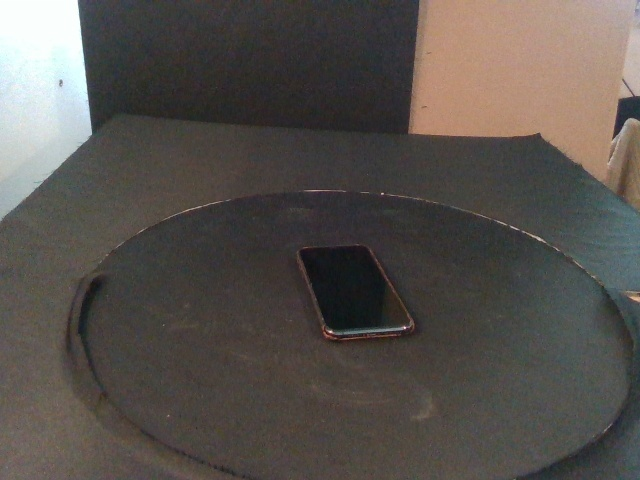phone: (296, 243, 416, 344)
